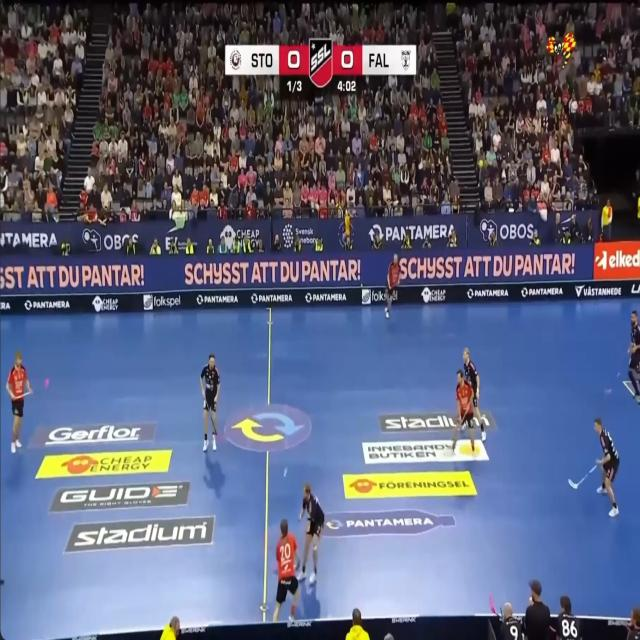player: (298, 482, 324, 583), (6, 350, 31, 453), (273, 519, 298, 621), (594, 417, 619, 517), (463, 347, 486, 441), (451, 369, 475, 452), (200, 354, 220, 450), (555, 595, 581, 639), (628, 309, 640, 404), (385, 255, 400, 317), (500, 602, 524, 639), (626, 607, 640, 639)
stick: (568, 465, 594, 488), (209, 411, 217, 436), (16, 389, 33, 399), (489, 595, 497, 614), (259, 604, 268, 612), (549, 624, 556, 632), (0, 579, 4, 585)
